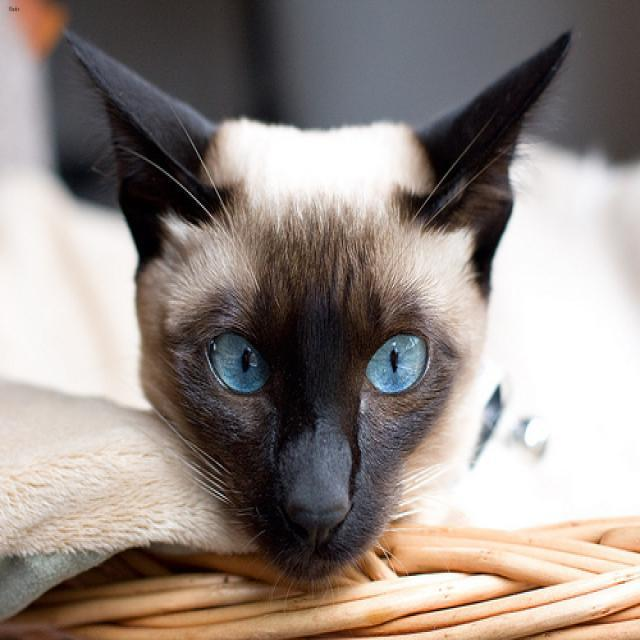Siamese: (63, 29, 571, 574)
